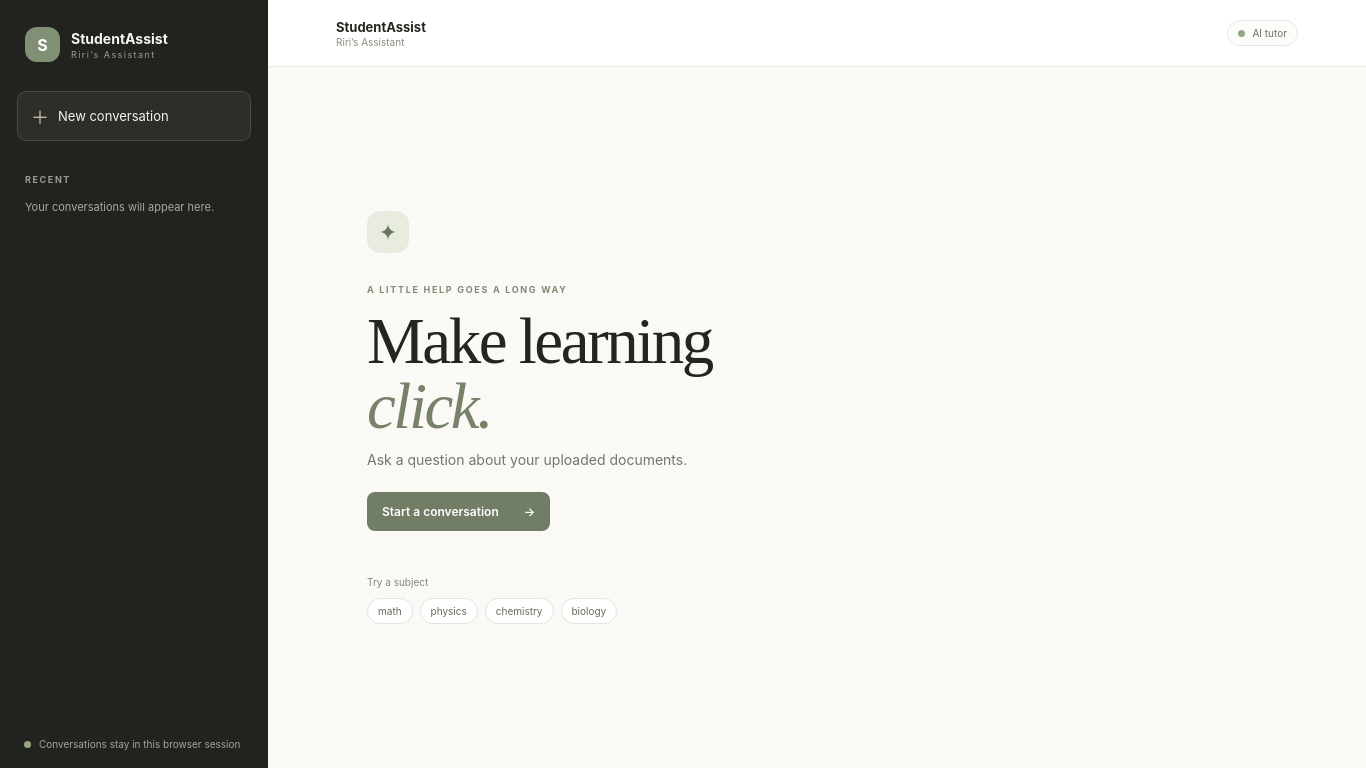
StudentAssist chat › clears the conversation ID when starting a new conversation
Click the button "Start a conversation →" at (459, 511), box [367,492,550,531]
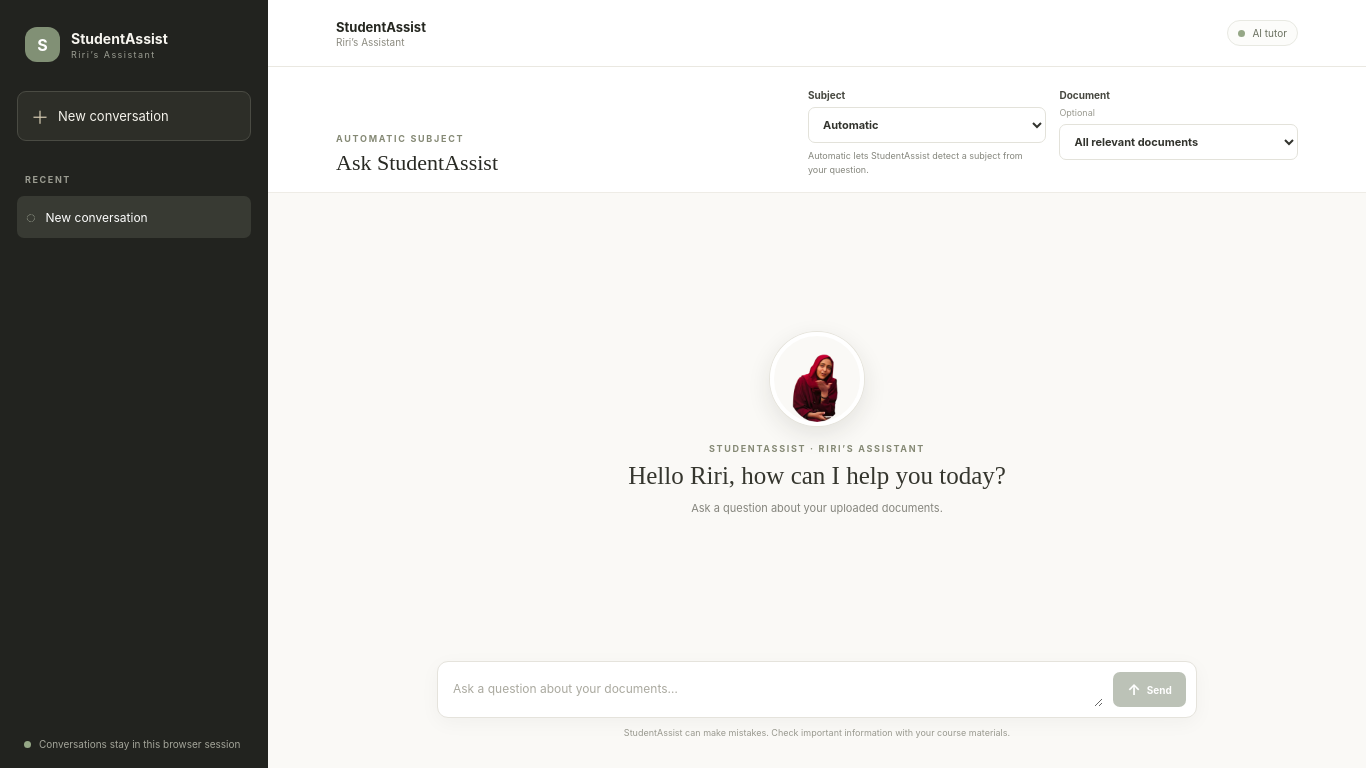
Type "First question?" into the text box named "Your question" at (776, 690), box [448,672,1103,707]
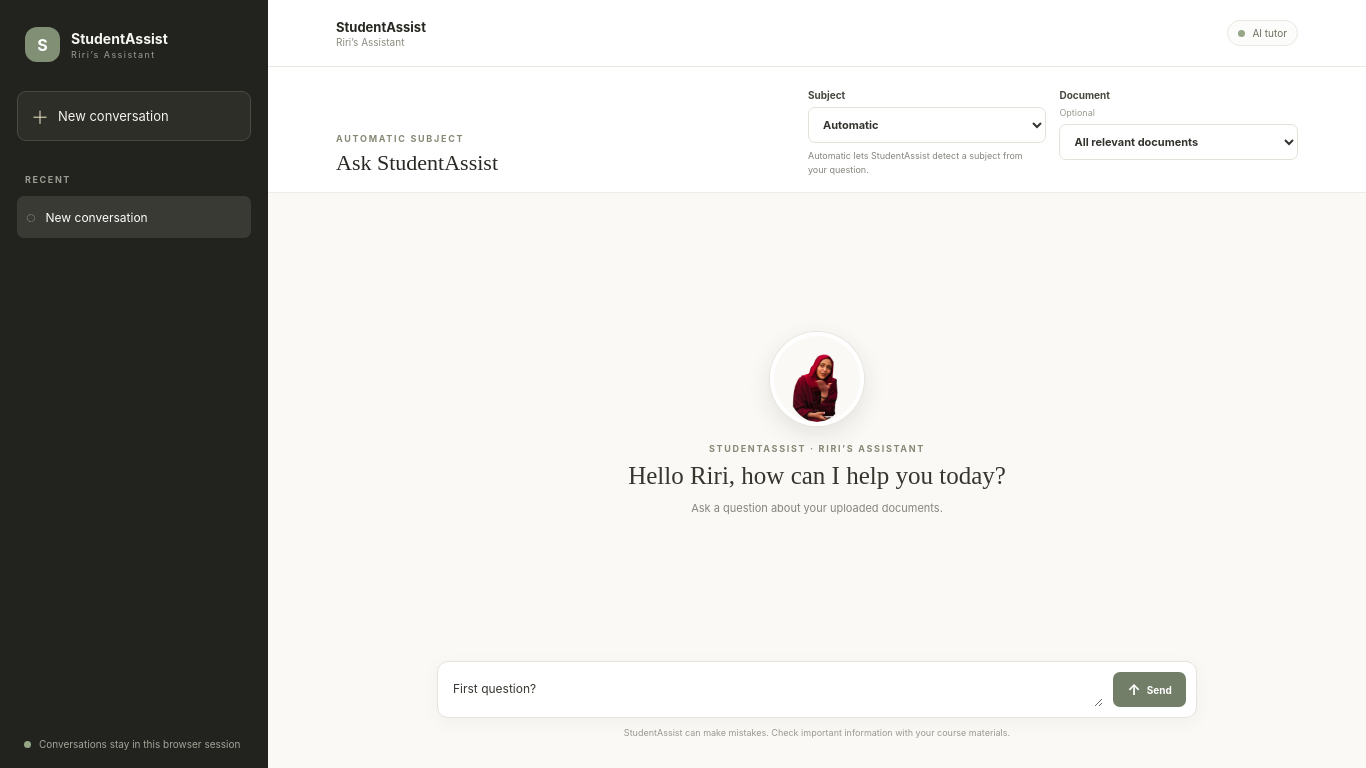
Click the button "↑ Send" at (1150, 690), box [1113,672,1186,707]
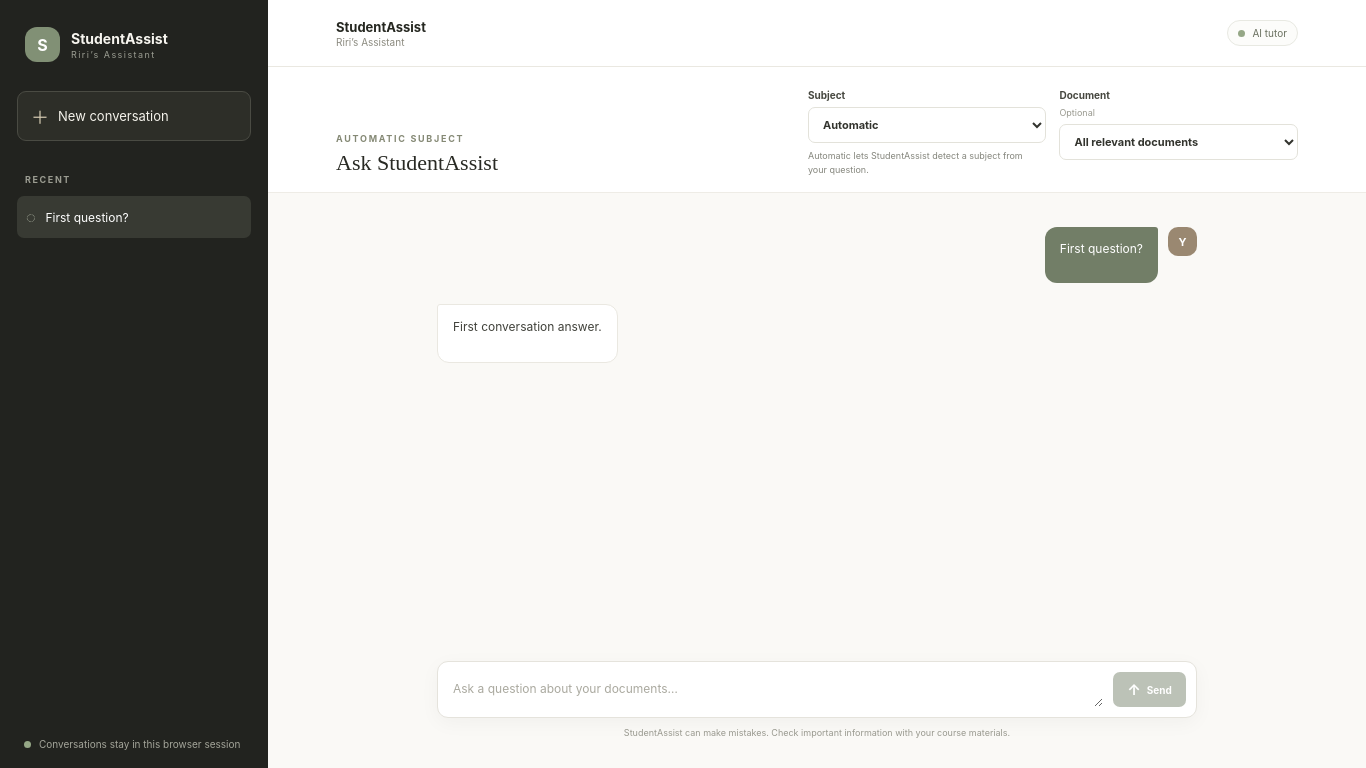
Expected: the text "First conversation answer." is shown, [453,317,602,338]
Click the button "＋ New conversation" at (134, 116), box [17,91,251,141]
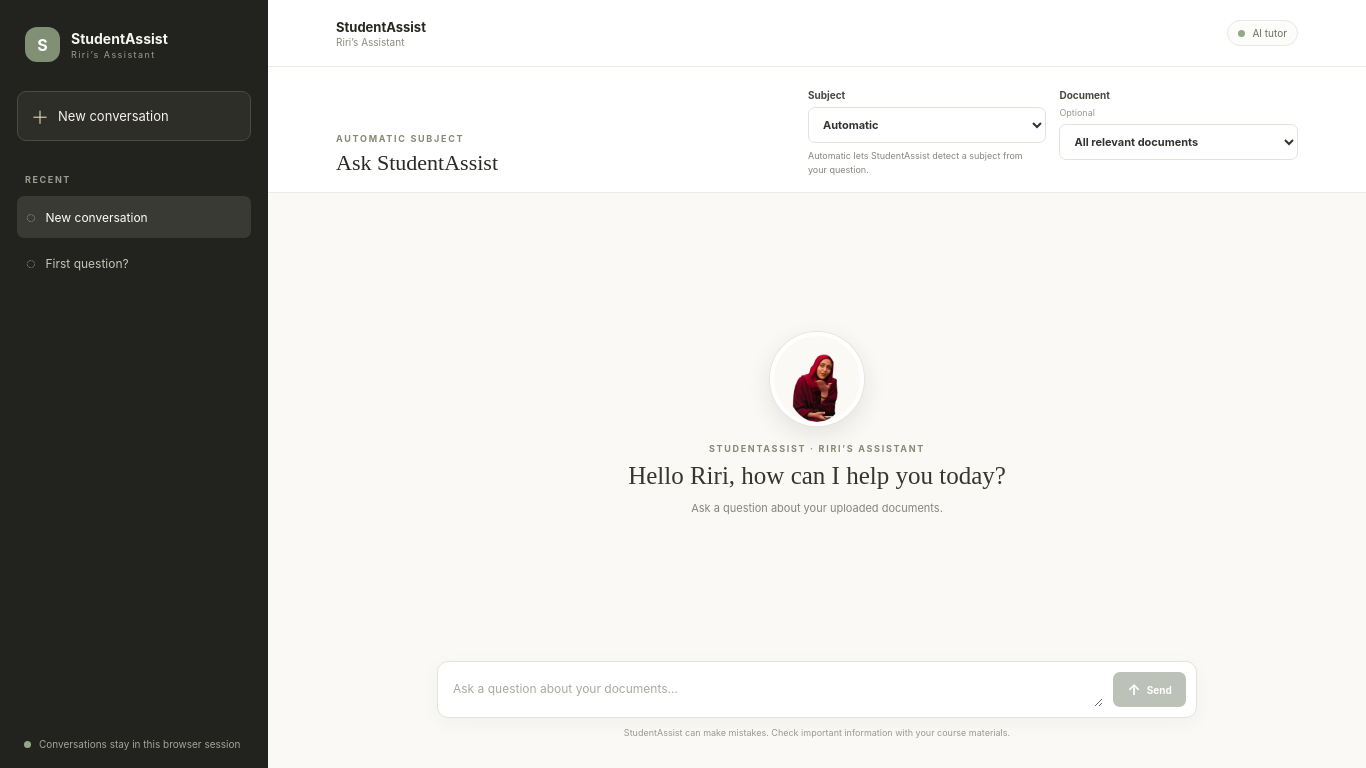
Type "New question?" into the text box named "Your question" at (776, 690), box [448,672,1103,707]
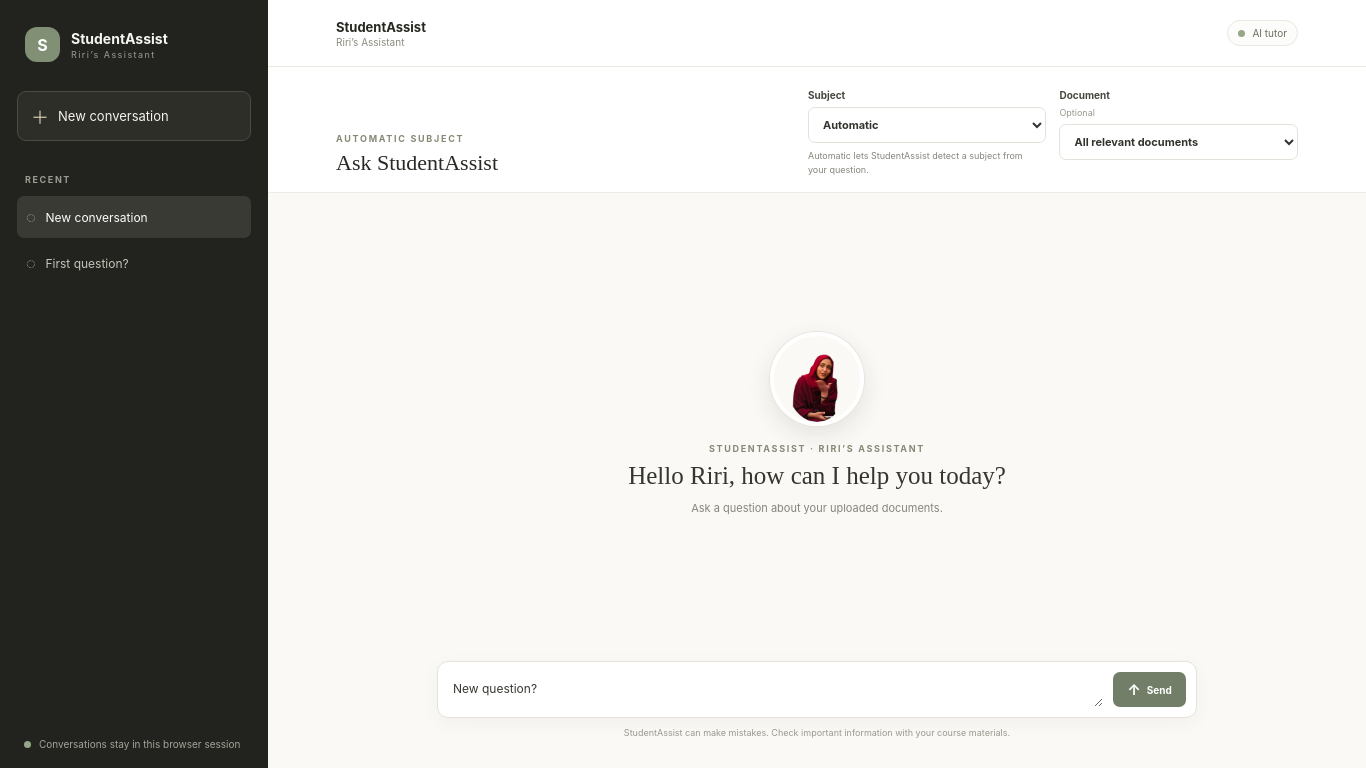
Click the button "↑ Send" at (1150, 690), box [1113,672,1186,707]
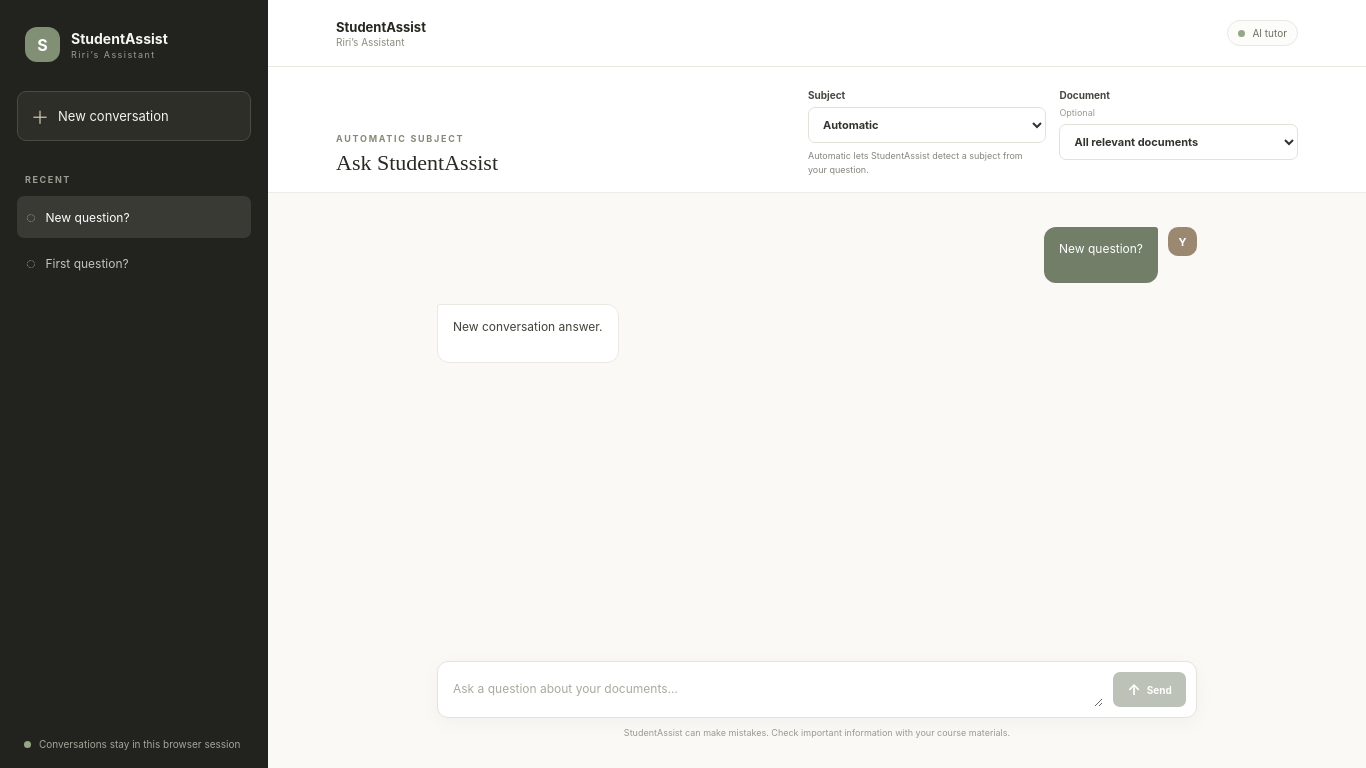
Expected: the text "New conversation answer." is shown, [453,317,603,338]
